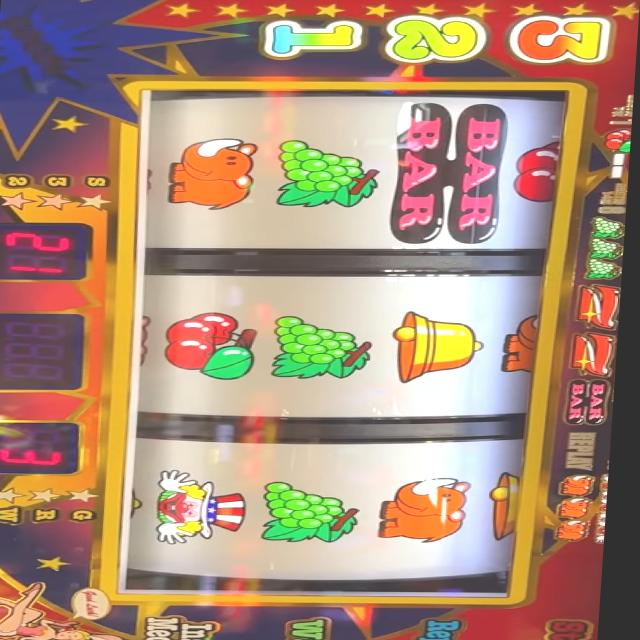bar: (389, 102, 515, 246), (565, 378, 618, 426)
bell: (391, 310, 489, 384), (491, 471, 525, 544)
cherry: (166, 310, 266, 380), (514, 138, 565, 204), (602, 128, 633, 153)
clown: (158, 468, 257, 545), (602, 519, 613, 544), (606, 471, 615, 492), (606, 495, 614, 515)
display: (122, 89, 576, 596)
elephant: (162, 138, 259, 212), (382, 478, 481, 544), (503, 313, 547, 377), (557, 519, 600, 542), (560, 498, 599, 519), (562, 475, 599, 496)
grape: (265, 139, 384, 208), (272, 315, 380, 379), (261, 481, 371, 543), (589, 215, 628, 239), (585, 260, 626, 280), (588, 240, 627, 260)
z: (572, 284, 624, 329), (572, 333, 621, 375)
